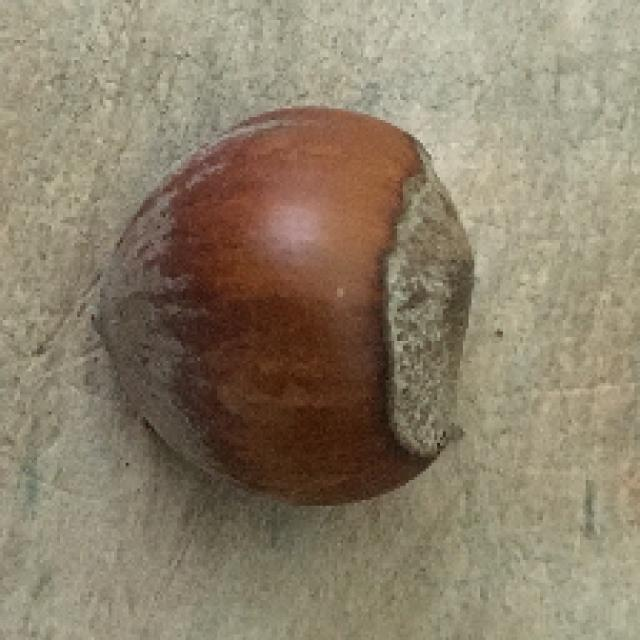qualityHazelnut: (79, 104, 482, 497)
